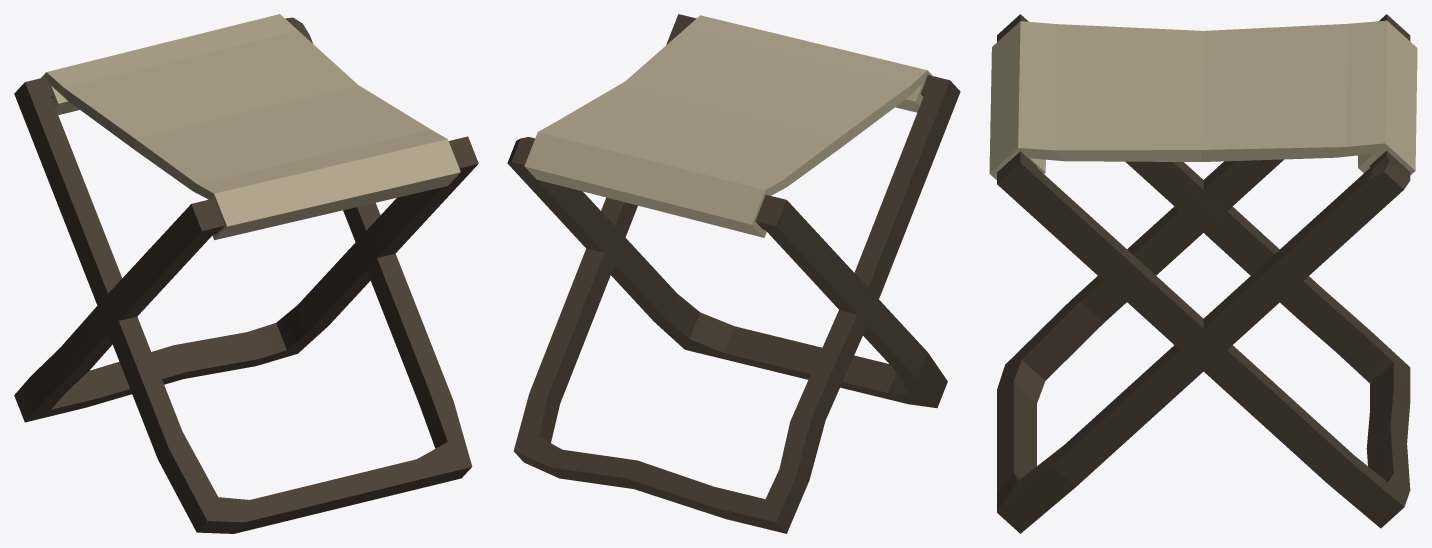
3 renders of one model, left to right at view 1: azimuth 30°, elevation 25°; view 2: azimuth 150°, elevation 25°; view 3: azimuth 270°, elevation 25°, orthographic. The views are drawn at different scales.
Visible parts, largest first — view 1: SM_Prop_Camp_Chair_01.001MeshLOD0; view 2: SM_Prop_Camp_Chair_01.001MeshLOD0; view 3: SM_Prop_Camp_Chair_01.001MeshLOD0.
Boxes of the visible parts, bbox=[...] form: SM_Prop_Camp_Chair_01.001MeshLOD0: bbox=[14, 14, 478, 533]; SM_Prop_Camp_Chair_01.001MeshLOD0: bbox=[507, 14, 960, 533]; SM_Prop_Camp_Chair_01.001MeshLOD0: bbox=[989, 14, 1417, 533].
Size of what is drawn, in the model's own units: 0.4346 by 0.5175 by 0.5255.
1 material, 1 textured.
